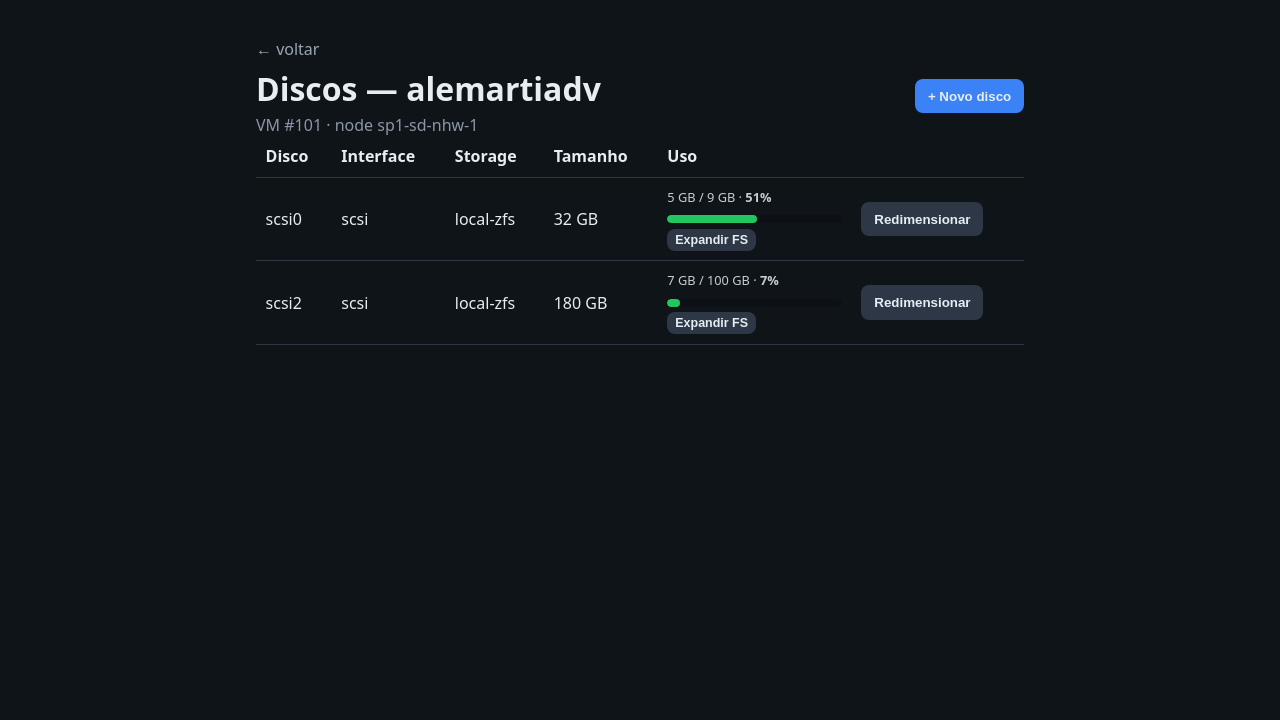
Test: Disks › resize com auto-grow que falha mantém o modal aberto e mostra o motivo
Expected: the text "scsi0" is shown, [256, 178, 332, 261]
Step 1. Click the button "Redimensionar" in the row of "scsi0" → (922, 219), box [862, 202, 983, 236]
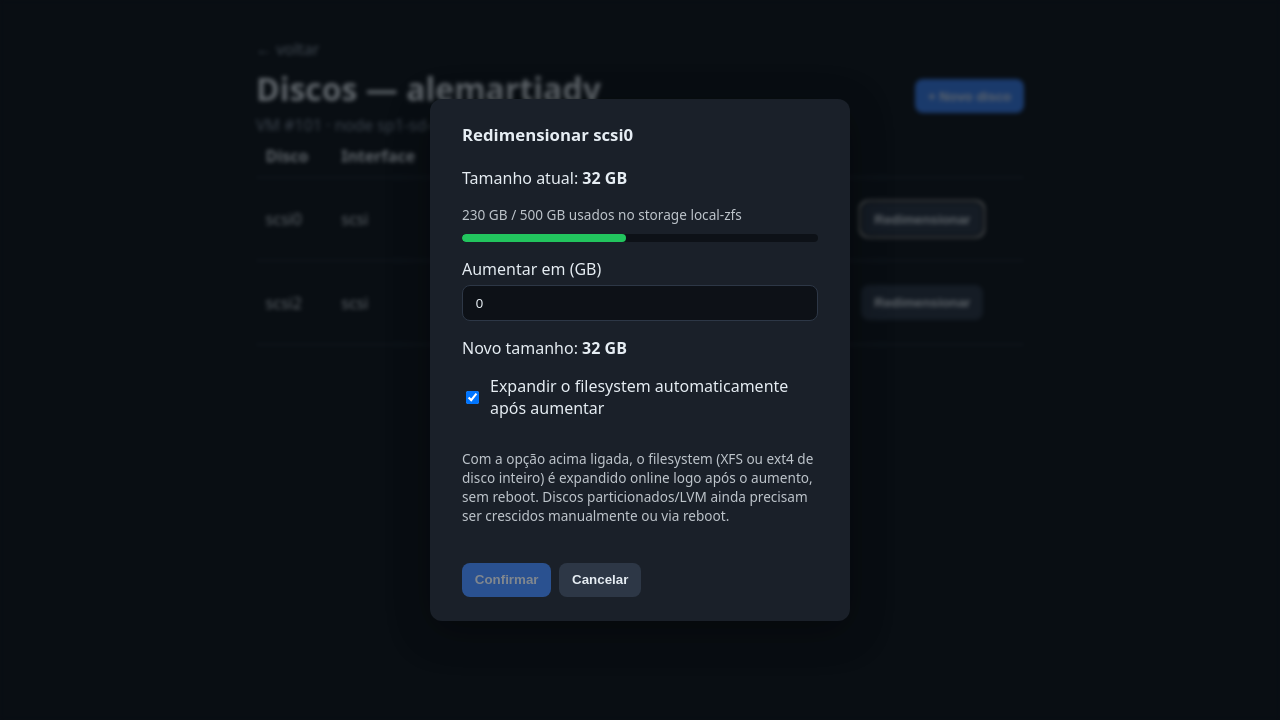
Now the text "230 GB / 500 GB usados no storage local-zfs" is shown, box [462, 205, 742, 224]
Step 2. Replace the text in the number field labelled "Aumentar em (GB)" with "32" → (640, 303), box [462, 285, 818, 321]
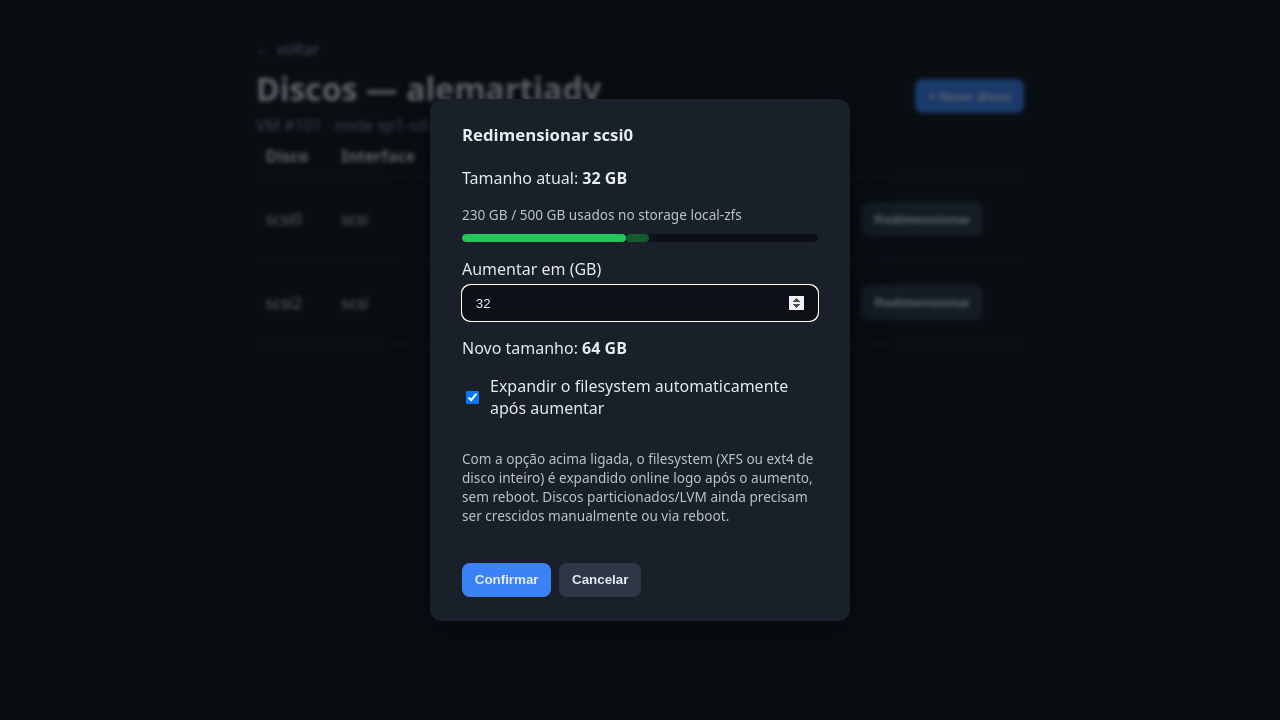
Step 3. Click the button "Confirmar" → (507, 580), box [462, 563, 551, 597]
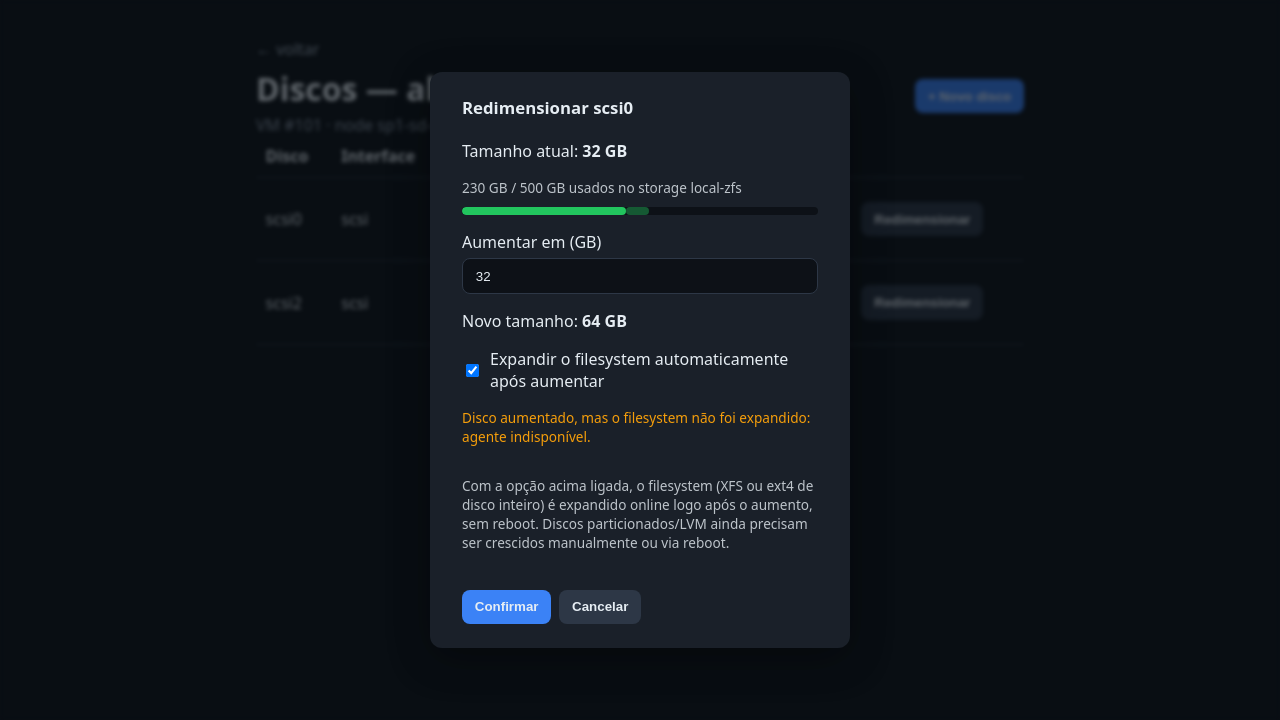
Now the text "agente indisponível" is shown, box [462, 408, 810, 446]
